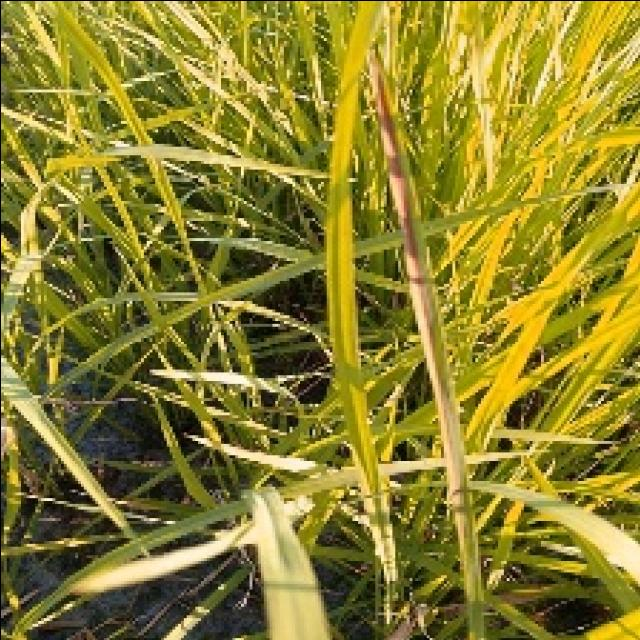Unhealthy: (370, 59, 466, 568)
